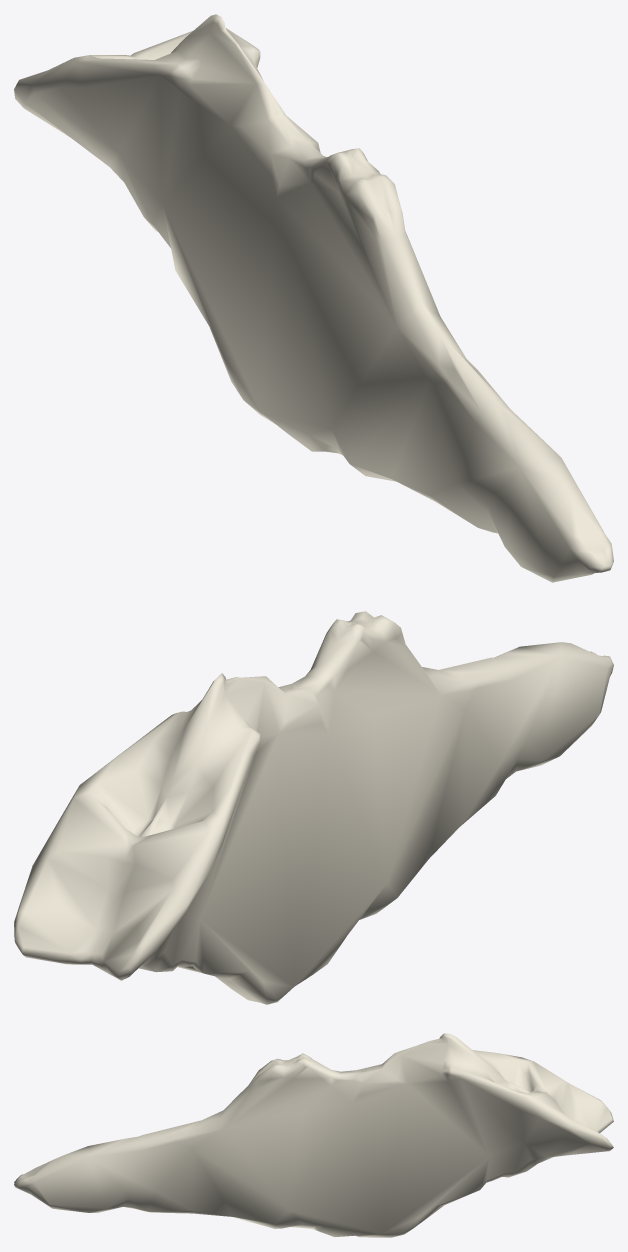
The picture shows the model from 3 angles, top to bottom: view 1: azimuth 30°, elevation 25°; view 2: azimuth 150°, elevation 25°; view 3: azimuth 270°, elevation 25°; orthographic projection. The views are drawn at different scales.
Visible parts, largest first — view 1: ZA_bcfc7448ea8a6917; view 2: ZA_bcfc7448ea8a6917; view 3: ZA_bcfc7448ea8a6917.
Part boxes in pixels (bbox=[...]): ZA_bcfc7448ea8a6917: bbox=[14, 14, 613, 582]; ZA_bcfc7448ea8a6917: bbox=[14, 611, 613, 1004]; ZA_bcfc7448ea8a6917: bbox=[14, 1033, 613, 1237].
Size of the model in its own units: 0.0102 by 0.023 by 0.0611.
